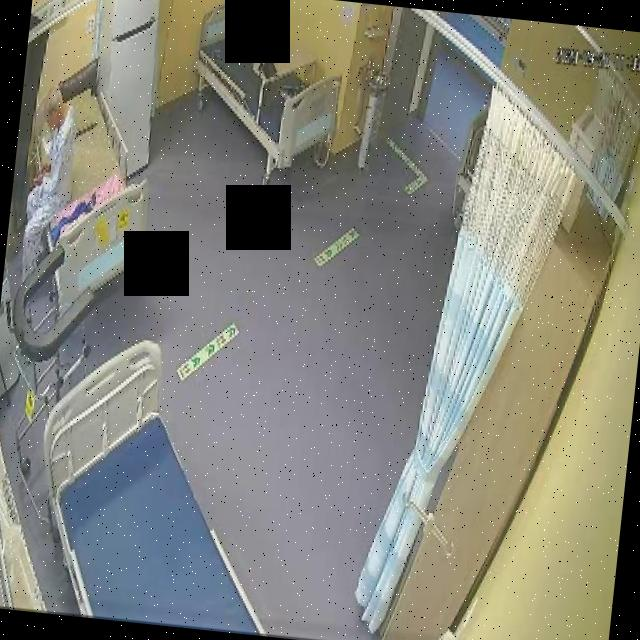bed: (22, 327, 290, 636), (15, 70, 164, 307), (187, 0, 349, 171)
patient: (12, 78, 82, 289)
sit: (12, 80, 81, 290)
